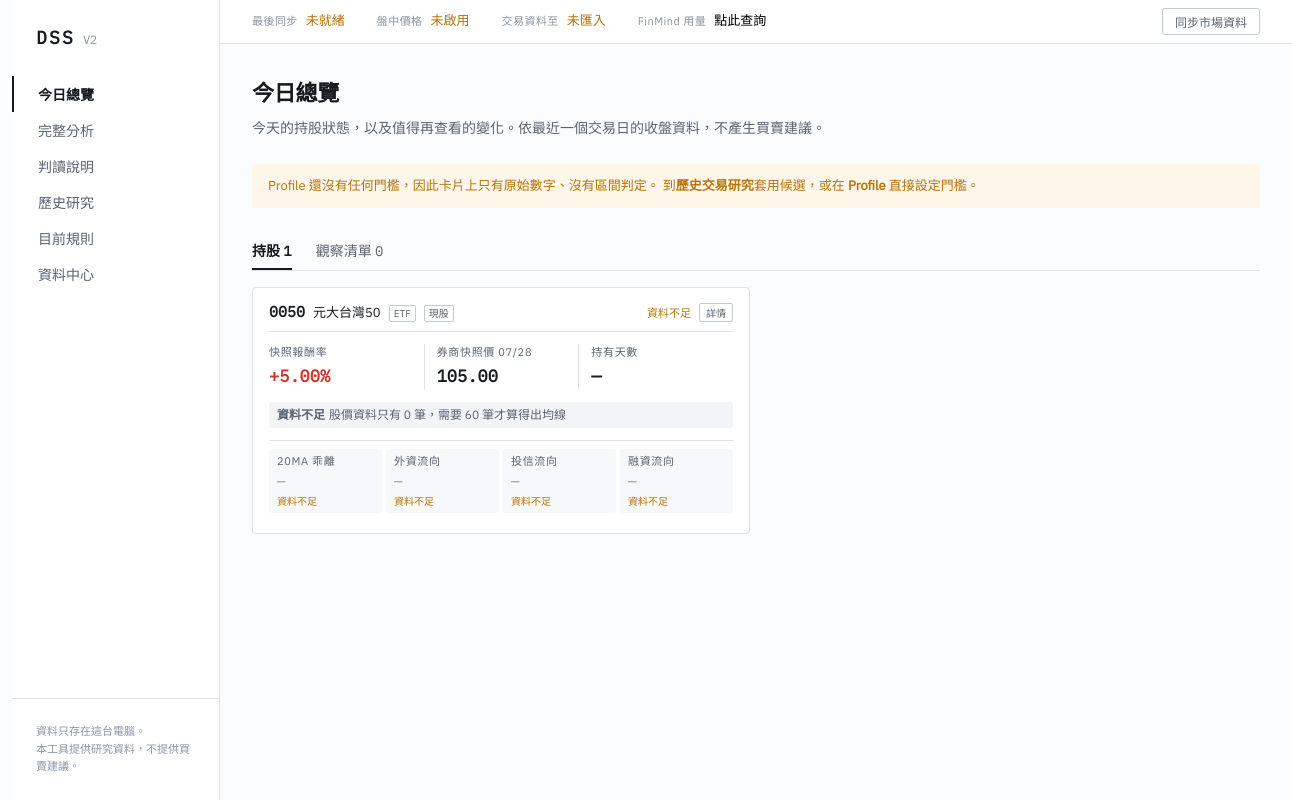
Test: AppShell › 有庫存時同步按鈕可按，且按下後會發出請求
This screenshot has width=1292, height=800.
Click the button "同步市場資料" at (1211,22), box 1162,8 -> 1260,35
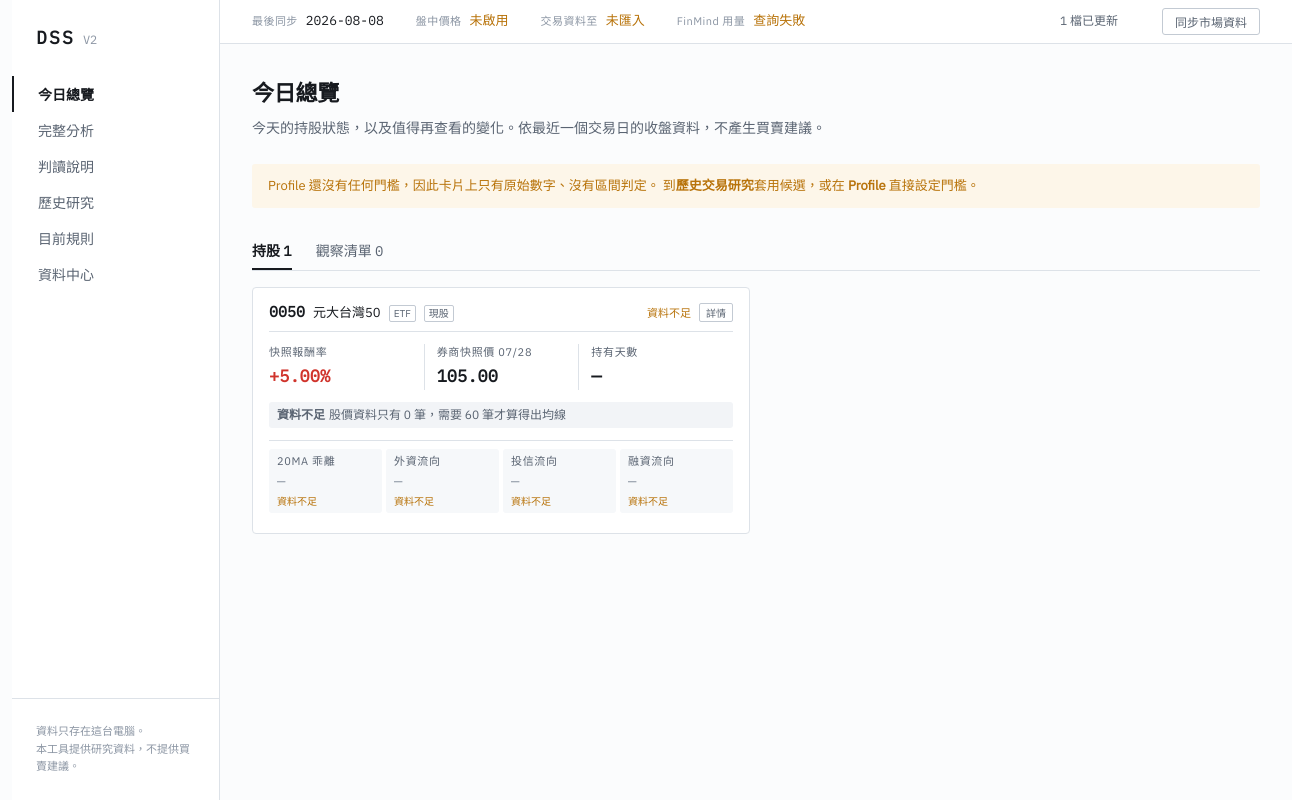
Check: the message shows "1 檔已更新", box 1060,13 -> 1118,28
